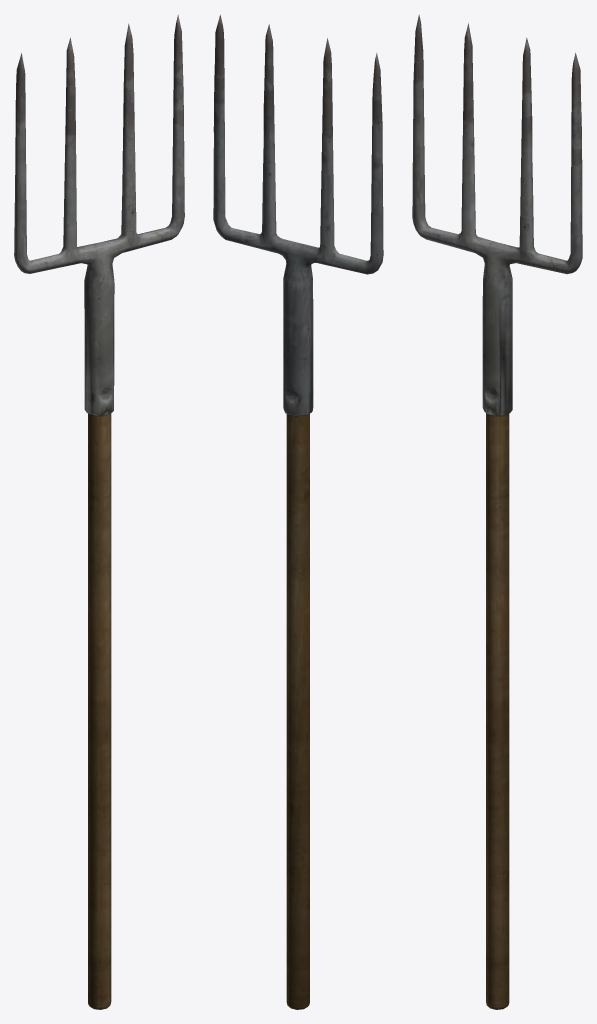
The model's file is pitchfork_a.glb.
3 renders of one model, left to right at view 1: azimuth 30°, elevation 25°; view 2: azimuth 150°, elevation 25°; view 3: azimuth 330°, elevation 25°, orthographic.
Visible parts, largest first — view 1: pitchfork_pitchfork_0; view 2: pitchfork_pitchfork_0; view 3: pitchfork_pitchfork_0.
Part boxes in pixels (x1=…): pitchfork_pitchfork_0: x1=14, y1=14, x2=184, y2=1009; pitchfork_pitchfork_0: x1=213, y1=14, x2=383, y2=1009; pitchfork_pitchfork_0: x1=412, y1=14, x2=582, y2=1009.
Size of the model in its own units: 27.43 by 151 by 4.27.
Materials: 1 (1 with a texture image).
